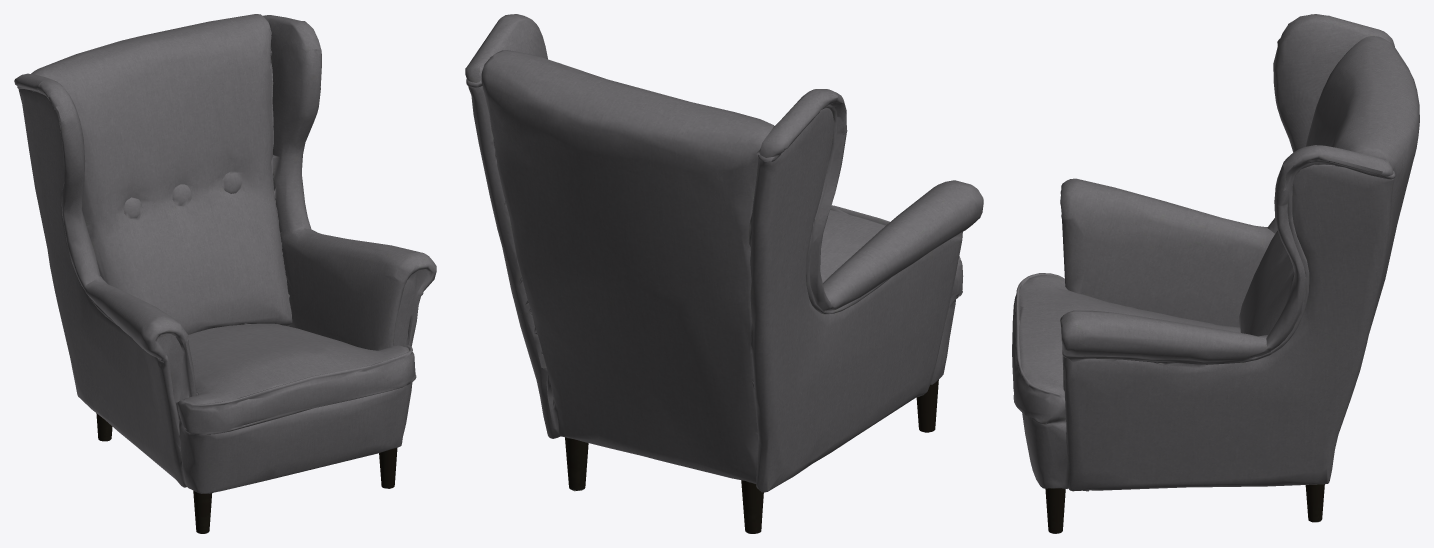
File: 03 - STRANDMON Children_s armchair - Vissle grey.glb
The picture shows the model from 3 angles, left to right: view 1: azimuth 30°, elevation 25°; view 2: azimuth 150°, elevation 25°; view 3: azimuth 270°, elevation 25°; orthographic projection. The views are drawn at different scales.
Visible parts, largest first — view 1: ProcessedMeshNode; view 2: ProcessedMeshNode; view 3: ProcessedMeshNode.
Part boxes in pixels (left/top/right/bottom): ProcessedMeshNode: left=14, top=14, right=436, bottom=533; ProcessedMeshNode: left=465, top=14, right=983, bottom=533; ProcessedMeshNode: left=1012, top=14, right=1419, bottom=533.
Bounding box in the file's own units: 0.5886 × 0.7129 × 0.6573.
1 material, 1 textured.
